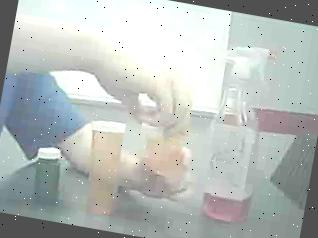Bottle A: (74, 113, 130, 222)
Bottle B: (132, 102, 202, 199)
Bottle C: (28, 144, 71, 208)
hazard: (192, 32, 294, 234)
